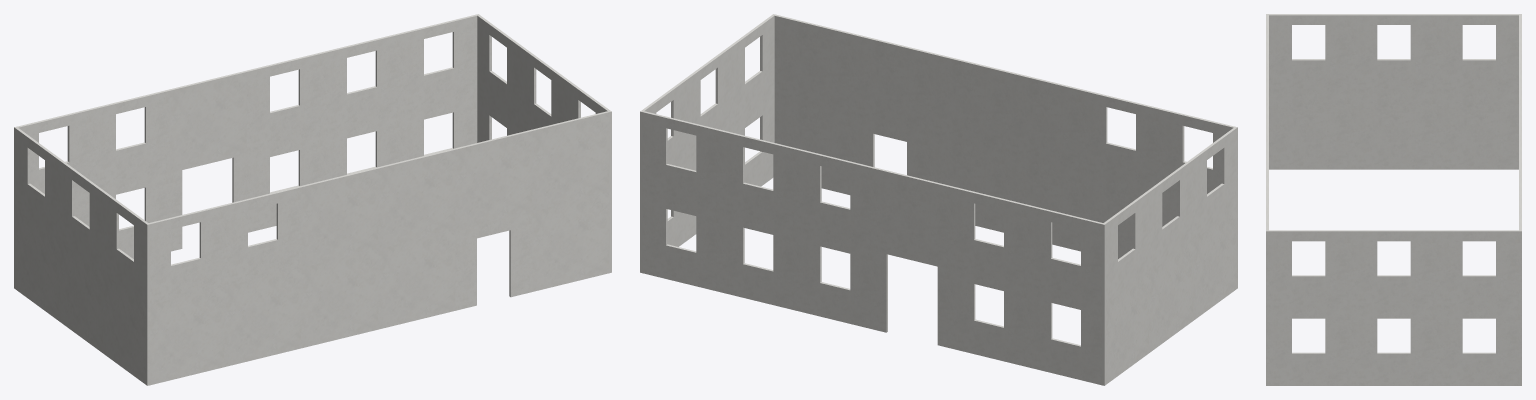
Rendered from Inner_Room_DEMO_ONLY.FBX.
3 views of the same model, side by side, from view 1: azimuth 30°, elevation 25°; view 2: azimuth 150°, elevation 25°; view 3: azimuth 270°, elevation 25° (orthographic). The views are drawn at different scales.
Visible parts, largest first — view 1: Inner_Room_DEMO_ONLY; view 2: Inner_Room_DEMO_ONLY; view 3: Inner_Room_DEMO_ONLY.
Part boxes in pixels (x1=…): Inner_Room_DEMO_ONLY: x1=14, y1=14, x2=611, y2=385; Inner_Room_DEMO_ONLY: x1=640, y1=14, x2=1237, y2=385; Inner_Room_DEMO_ONLY: x1=1266, y1=14, x2=1521, y2=385.
Bounding box in the file's own units: 1810 × 600 × 900.
